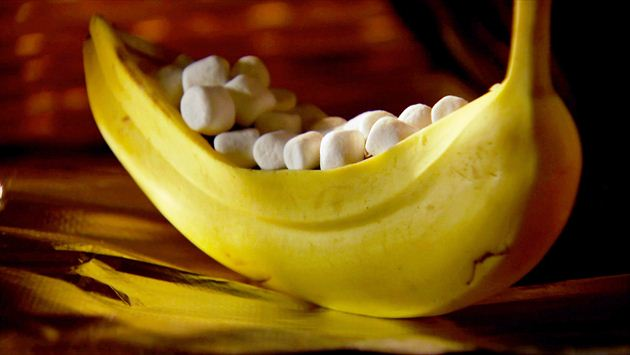banana: (63, 17, 560, 323)
